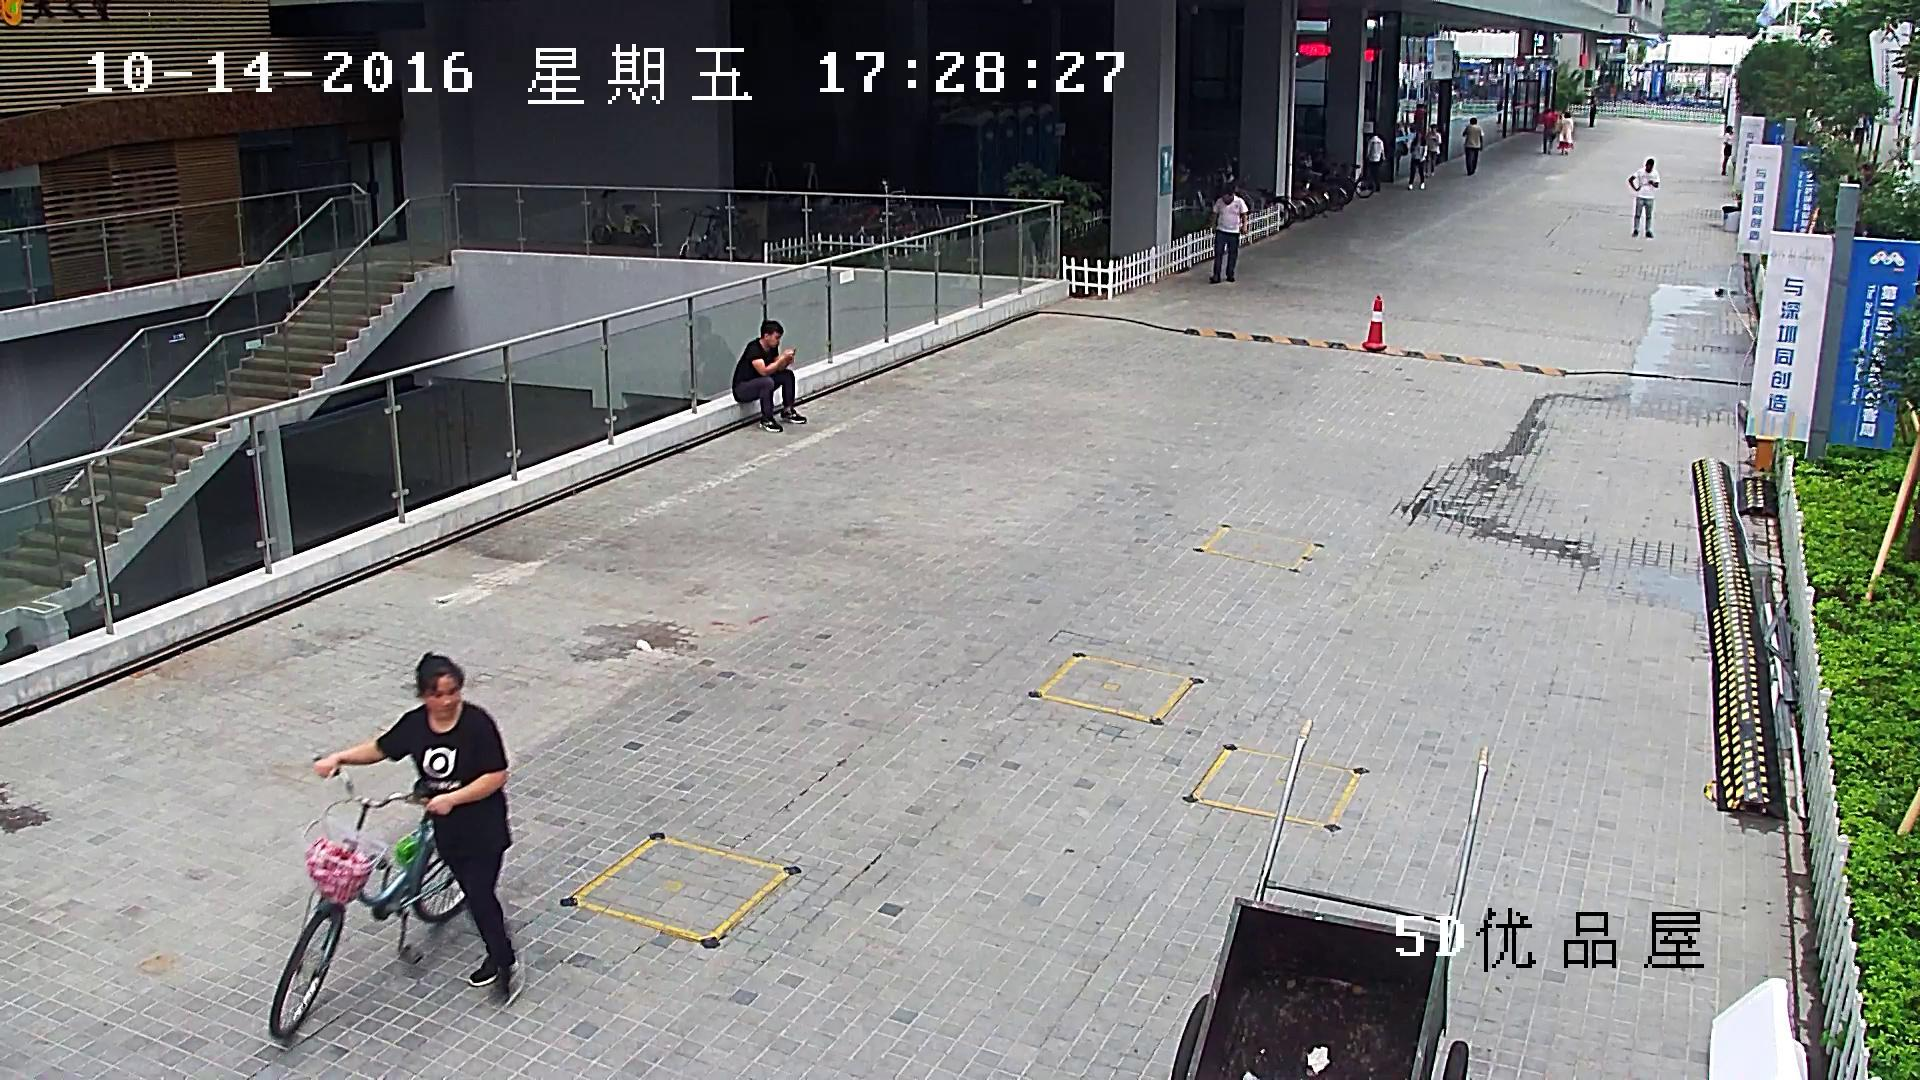person: (270, 652, 523, 1040), (314, 652, 523, 1007), (731, 319, 807, 433), (1208, 188, 1248, 281), (1629, 159, 1658, 237), (1406, 129, 1427, 189), (1462, 118, 1482, 175), (1366, 135, 1384, 190), (1539, 108, 1558, 155), (1424, 124, 1440, 177), (1394, 123, 1408, 175), (1559, 112, 1573, 154), (1722, 126, 1732, 175), (1853, 116, 1864, 153), (1414, 103, 1427, 132), (1496, 96, 1503, 123), (1589, 95, 1595, 126)
